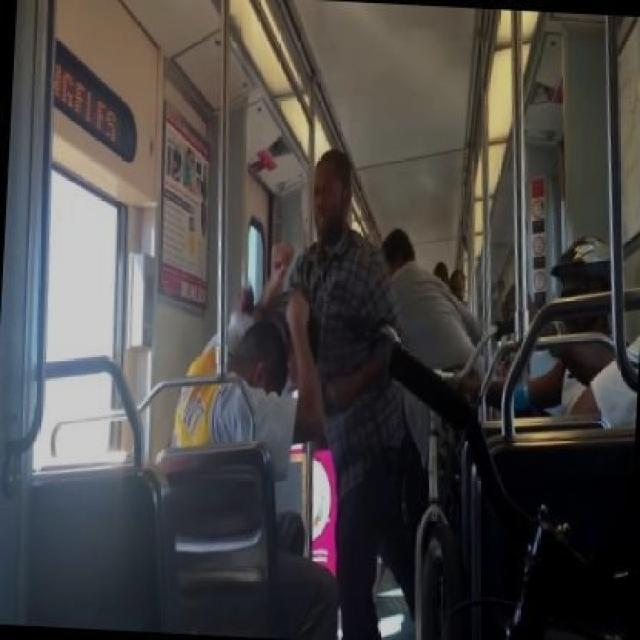fight: (165, 143, 457, 639)
